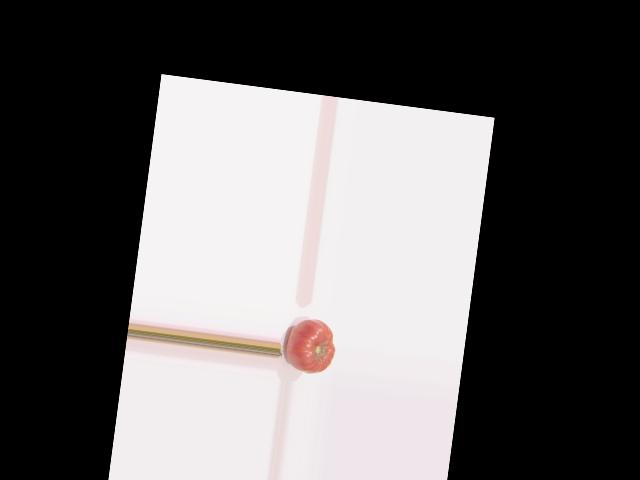tomato: (284, 316, 338, 375)
